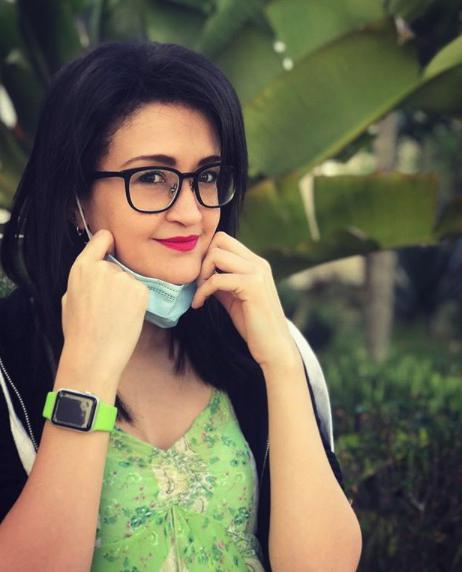mask_weared_incorrect: (103, 146, 219, 324)
